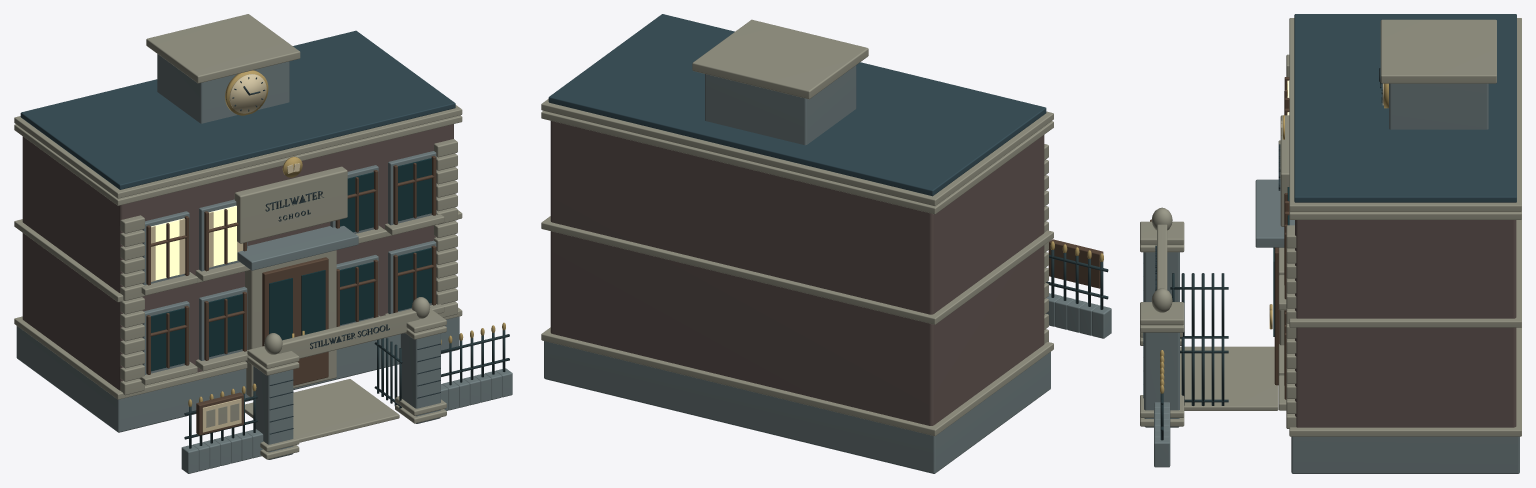
Rendered from school_refined.glb.
The picture shows the model from 3 angles, left to right: view 1: azimuth 30°, elevation 25°; view 2: azimuth 150°, elevation 25°; view 3: azimuth 270°, elevation 25°; orthographic projection. The views are drawn at different scales.
Parts seen in each view (by area): view 1: School masonry, Roof, Rusticated stone base, Clock cornice, School facade name stone, Stone entrance approach, Limestone string course.003, Clock tower, Limestone string course.002, Portal stone frame, Double door, School canopy (+31 smaller); view 2: School masonry, Roof, Rusticated stone base, Clock cornice, Clock tower, Limestone string course.003, Limestone string course.001, Limestone string course, Limestone string course.002, Notice cabinet, Fence stone footing.006; view 3: School masonry, Roof, Rusticated stone base, Clock cornice, Stone entrance approach, Clock tower, Limestone string course.003, Limestone string course, Limestone string course.001, Gate pier.001, Limestone string course.002, School canopy (+8 smaller).
Boxes of the visible parts, x1,y1,x2,y2 form: School masonry: [22, 124, 453, 390]; Roof: [20, 30, 455, 189]; Rusticated stone base: [16, 316, 459, 432]; Clock cornice: [146, 14, 300, 83]; School facade name stone: [234, 166, 347, 243]; Stone entrance approach: [245, 379, 399, 442]; Limestone string course.003: [14, 105, 462, 198]; Clock tower: [157, 54, 289, 123]; Limestone string course.002: [14, 115, 462, 205]; Portal stone frame: [245, 250, 336, 396]; Double door: [262, 257, 328, 385]; School canopy: [237, 226, 358, 270]; School masonry: [550, 121, 1044, 425]; Roof: [548, 14, 1046, 196]; Rusticated stone base: [544, 341, 1050, 473]; Clock cornice: [692, 19, 868, 99]; Clock tower: [705, 65, 856, 145]; Limestone string course.003: [541, 99, 1053, 206]; Limestone string course.001: [541, 216, 1053, 324]; Limestone string course: [541, 327, 1053, 436]; Limestone string course.002: [541, 111, 1053, 214]; Notice cabinet: [1048, 239, 1103, 288]; Fence stone footing.006: [1092, 305, 1111, 338]; School masonry: [1295, 220, 1516, 427]; Roof: [1294, 14, 1516, 202]; Rusticated stone base: [1291, 436, 1519, 473]; Clock cornice: [1380, 19, 1496, 83]; Stone entrance approach: [1180, 346, 1278, 410]; Clock tower: [1389, 83, 1488, 129]; Limestone string course.003: [1289, 18, 1521, 211]; Limestone string course: [1289, 327, 1521, 436]; Limestone string course.001: [1289, 219, 1521, 327]; Gate pier.001: [1144, 332, 1179, 427]; Limestone string course.002: [1289, 211, 1521, 219]; School canopy: [1255, 179, 1284, 247].
Bounding box in the file's own units: 8.04 × 6.66 × 6.9.
